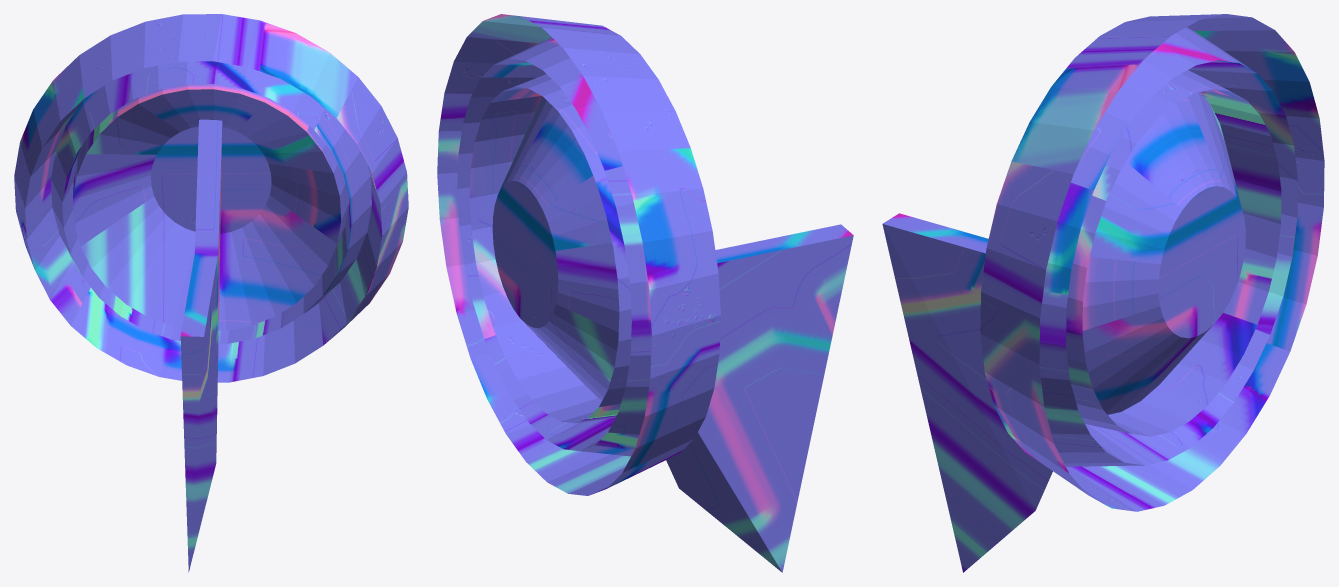
File: radar15.obj
The picture shows the model from 3 angles, left to right: view 1: azimuth 30°, elevation 25°; view 2: azimuth 150°, elevation 25°; view 3: azimuth 270°, elevation 25°; orthographic projection. The views are drawn at different scales.
Visible parts, largest first — view 1: radar; view 2: radar; view 3: radar.
Boxes of the visible parts, <box> form: radar: <box>14,14,408,572</box>; radar: <box>437,14,853,572</box>; radar: <box>882,14,1324,572</box>.
Bounding box in the file's own units: 0.8838 × 1.3 × 0.8561.
